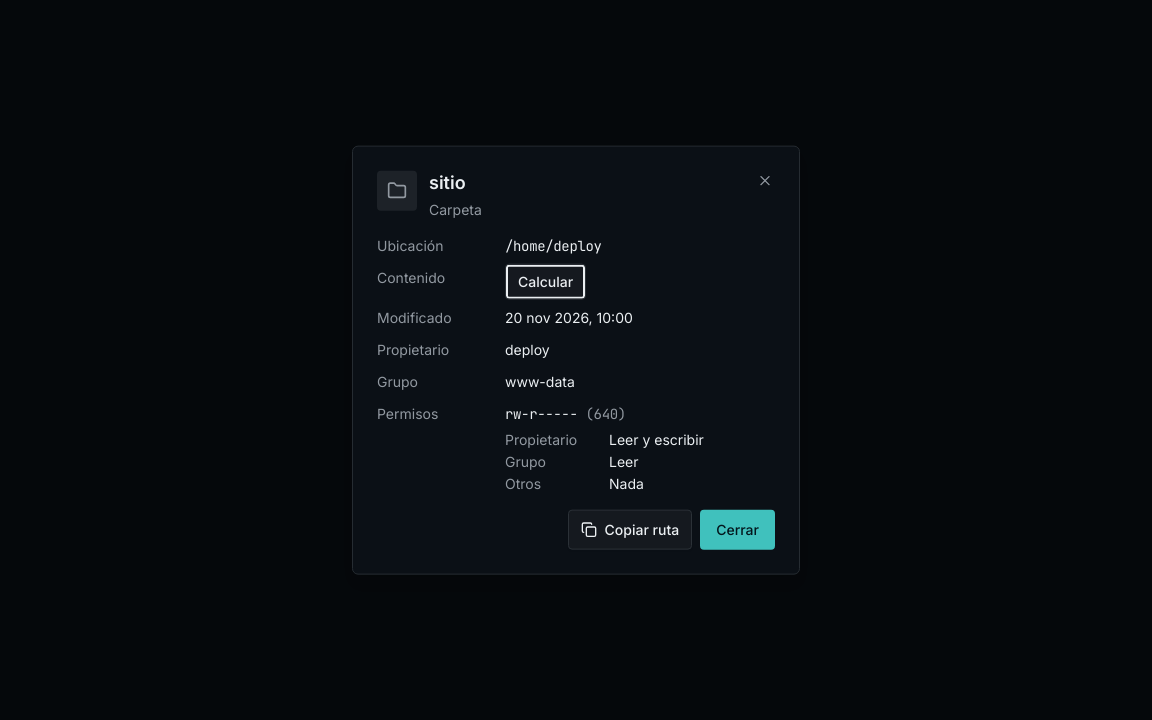
Test: DialogoDeDetalles › mide una carpeta solo si se pide
Click the button "Calcular": [546, 281] box top-left (505, 263), bottom-right (586, 299)
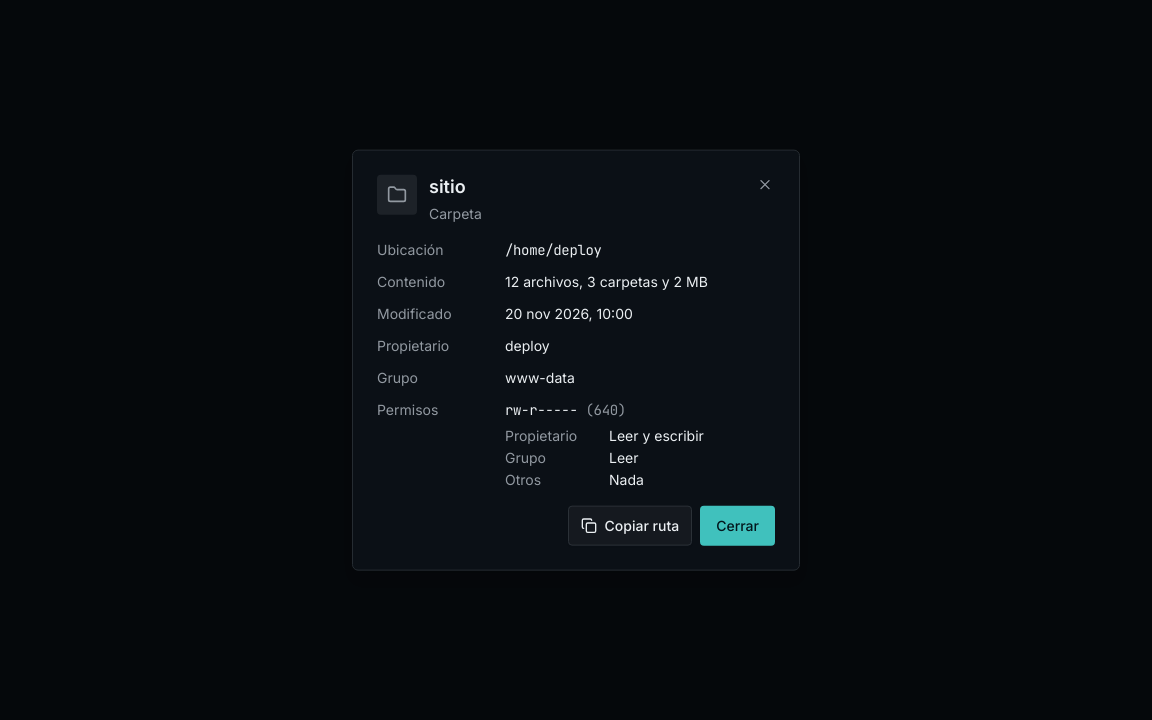
Now the text "12 archivos, 3 carpetas y 2 MB" is shown, box top-left (505, 272), bottom-right (708, 289)
